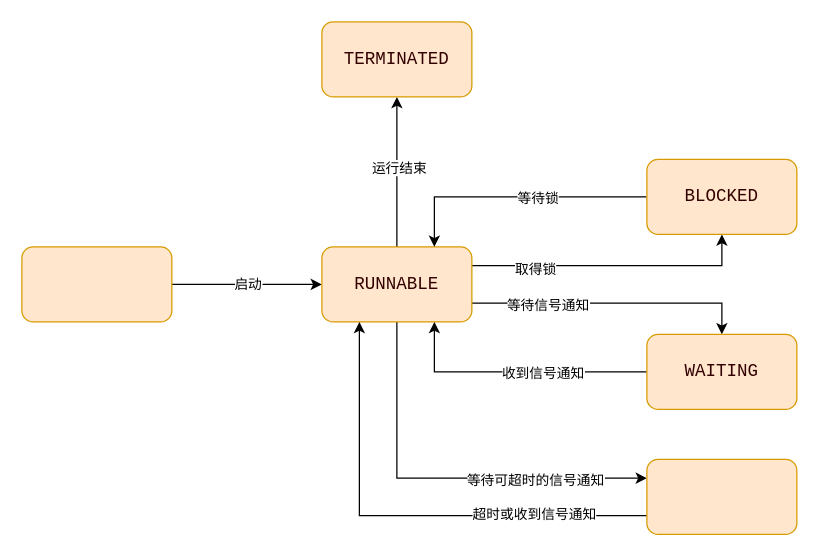
Some shapes in this 819 by 556 pixel diagram are drawn without their labels. The centre of each missing label's shape, as x and y in pixels:
"NEW" belongs at point 96,284.
"TIMED_WAITING" belongs at point 721,496.
